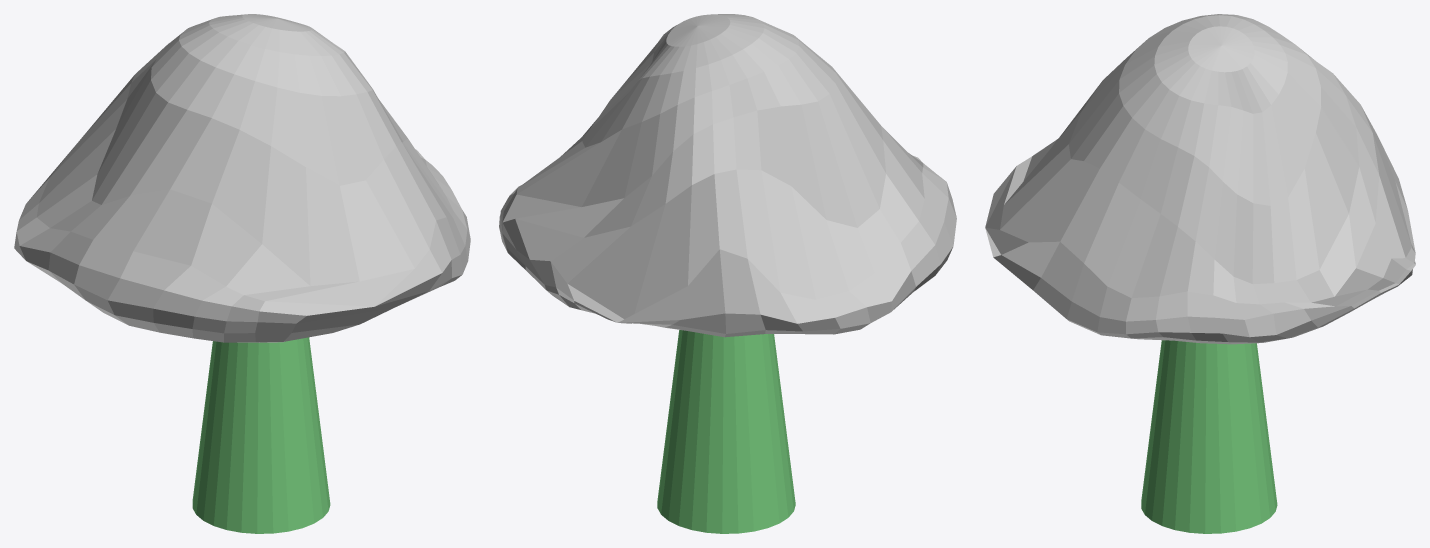
The model's file is cogumeloteste.fbx.
3 renders of one model, left to right at view 1: azimuth 30°, elevation 25°; view 2: azimuth 150°, elevation 25°; view 3: azimuth 270°, elevation 25°, orthographic.
Parts seen in each view (by area): view 1: cogumelo.001; view 2: cogumelo.001; view 3: cogumelo.001.
Boxes of the visible parts, bbox=[...] form: cogumelo.001: bbox=[14, 14, 470, 533]; cogumelo.001: bbox=[499, 14, 956, 533]; cogumelo.001: bbox=[985, 14, 1415, 533].
Size of the model in its own units: 269 by 311 by 255.
